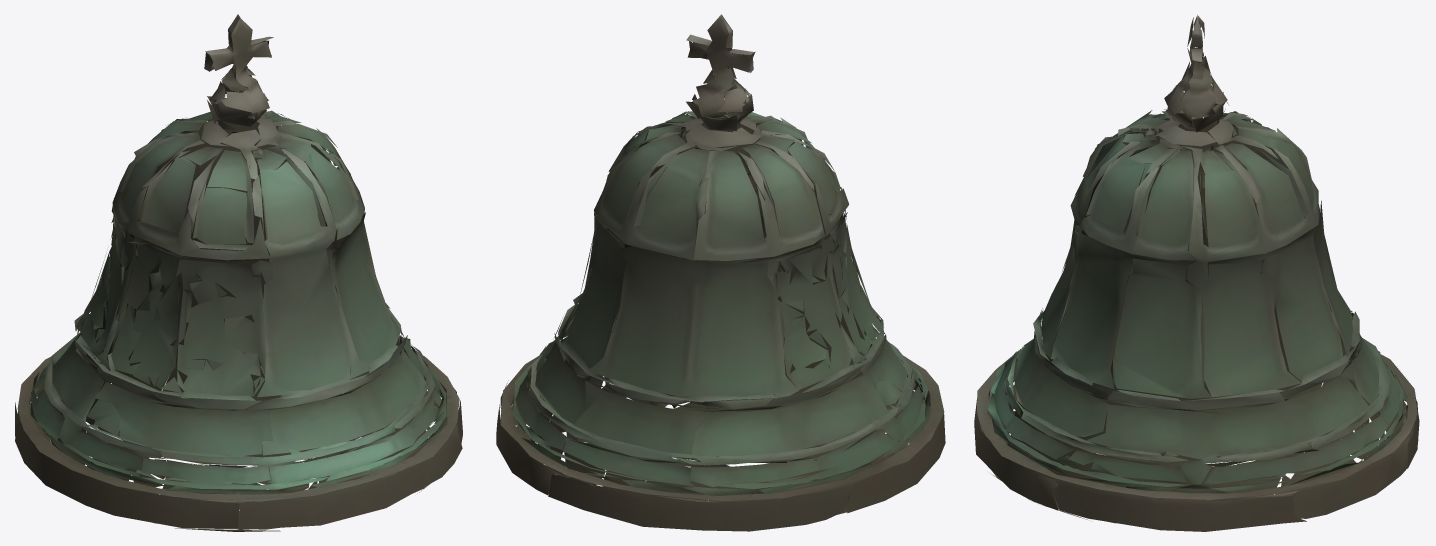
The model's file is lan_fallen_bell.glb.
3 renders of one model, left to right at view 1: azimuth 30°, elevation 25°; view 2: azimuth 150°, elevation 25°; view 3: azimuth 270°, elevation 25°, orthographic.
Parts seen in each view (by area): view 1: MetricPlacement; view 2: MetricPlacement; view 3: MetricPlacement.
Boxes of the visible parts, x1,y1,x2,y2 form: MetricPlacement: (15,14,462,531); MetricPlacement: (496,14,945,531); MetricPlacement: (974,14,1419,531).
Bounding box in the file's own units: 1.14 × 1.2 × 1.13.
1 material, 1 textured.
